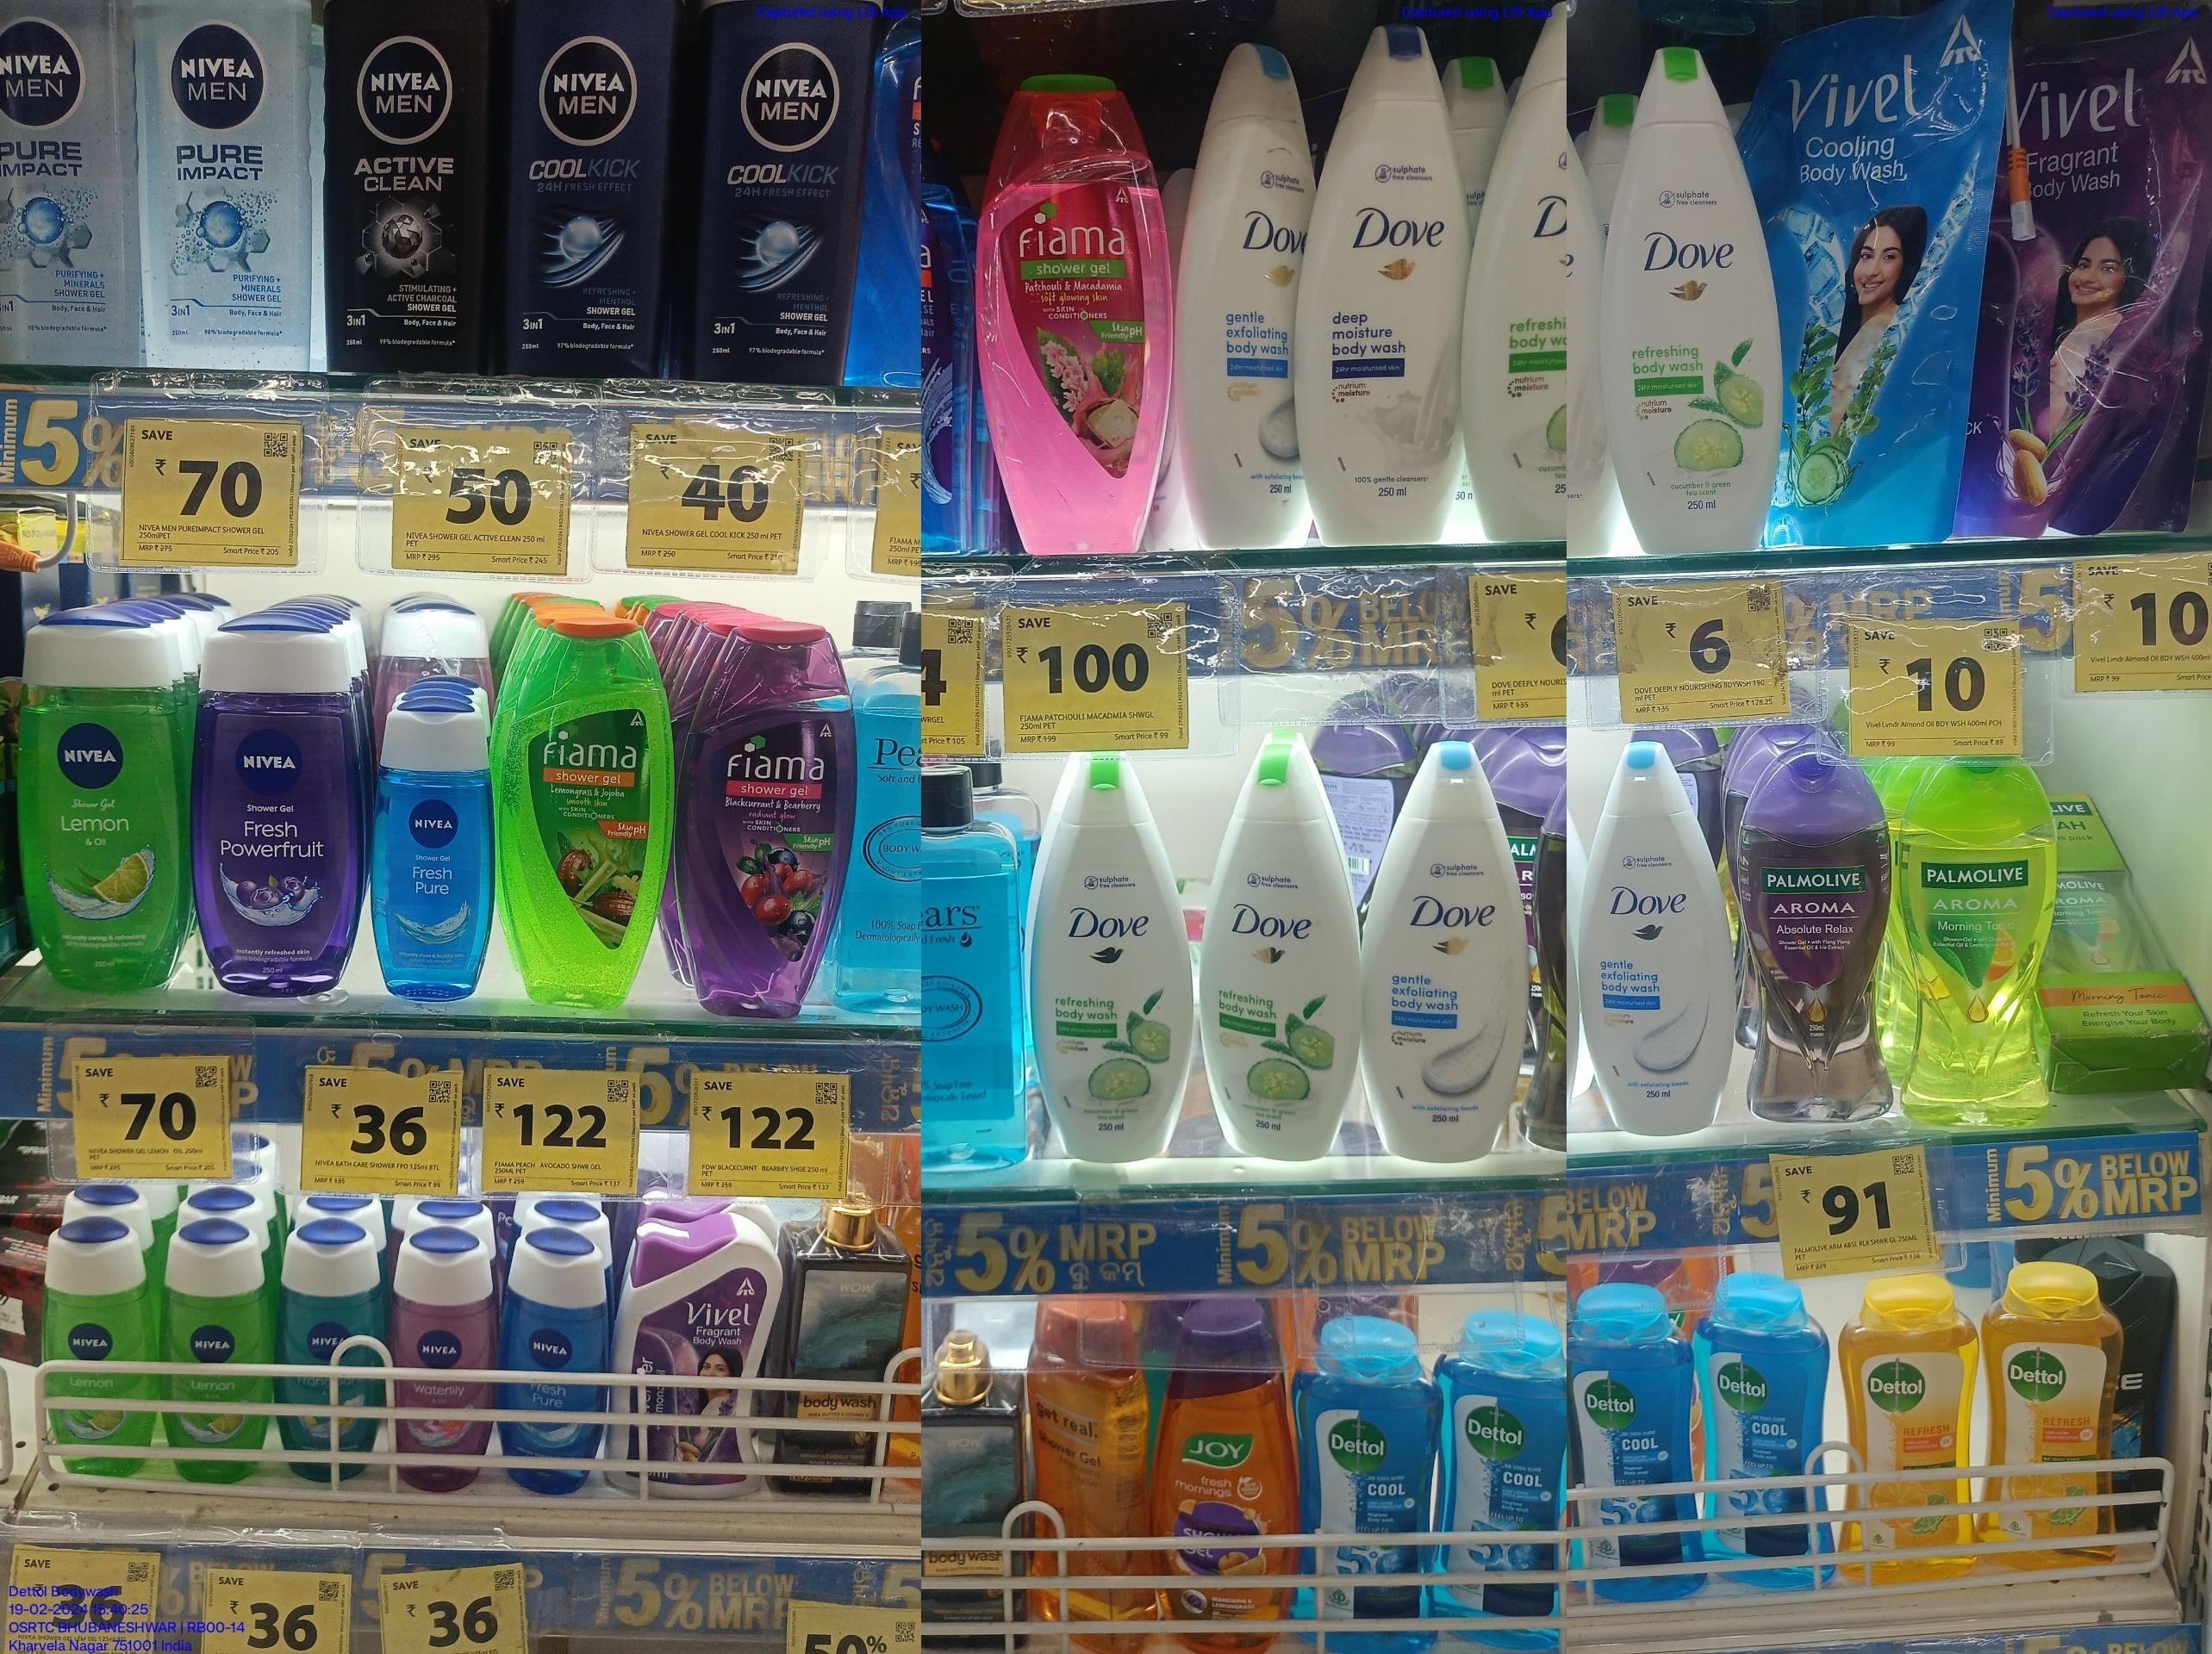Dettol_Bodywash_Cool: (1289, 1320, 1437, 1652), (1701, 1270, 1840, 1576), (1435, 1319, 1567, 1626), (1574, 1282, 1696, 1600)
Dettol_Bodywash_Refresh: (1847, 1275, 1988, 1581), (1986, 1277, 2113, 1574)
Dove_Deep_Moisture_Body_Wash_250ML: (1298, 28, 1447, 535)
Dove_Gentle_Exfoliating_Body_Wash_250ML: (1168, 24, 1298, 559), (1374, 751, 1527, 1169), (1573, 751, 1736, 1138)
Dove_Refreshing_Body_Wash_250ML: (1599, 50, 1783, 579), (1043, 754, 1201, 1176), (1201, 754, 1361, 1161)
Fiama_Shower_Gel_Lemongrass_and_Jojoba_250ML: (502, 610, 672, 1008)
Fiama_Shower_Gel_Patchouli_and_Macadamia_250ML: (999, 69, 1159, 551)
Joy_Shower_Gel_Mandarin_and_Lemongrass_250ML: (1156, 1296, 1288, 1651)
Nivea_Shower_Gel_Frangipani_and_Oil_250ML: (280, 1225, 387, 1494)
Nivea_Shower_Gel_Fresh_Powerfruit_250ML: (198, 627, 349, 1004)
Nivea_Shower_Gel_Lemon_and_Oil_250ML: (14, 620, 186, 990), (160, 1218, 268, 1494), (43, 1218, 149, 1491)
Nivea_Shower_Gel_Waterlily_and_Oil_250ML: (389, 1227, 499, 1496)
Palmolive_Aroma_Relax_250ML: (1753, 763, 1892, 1135)
